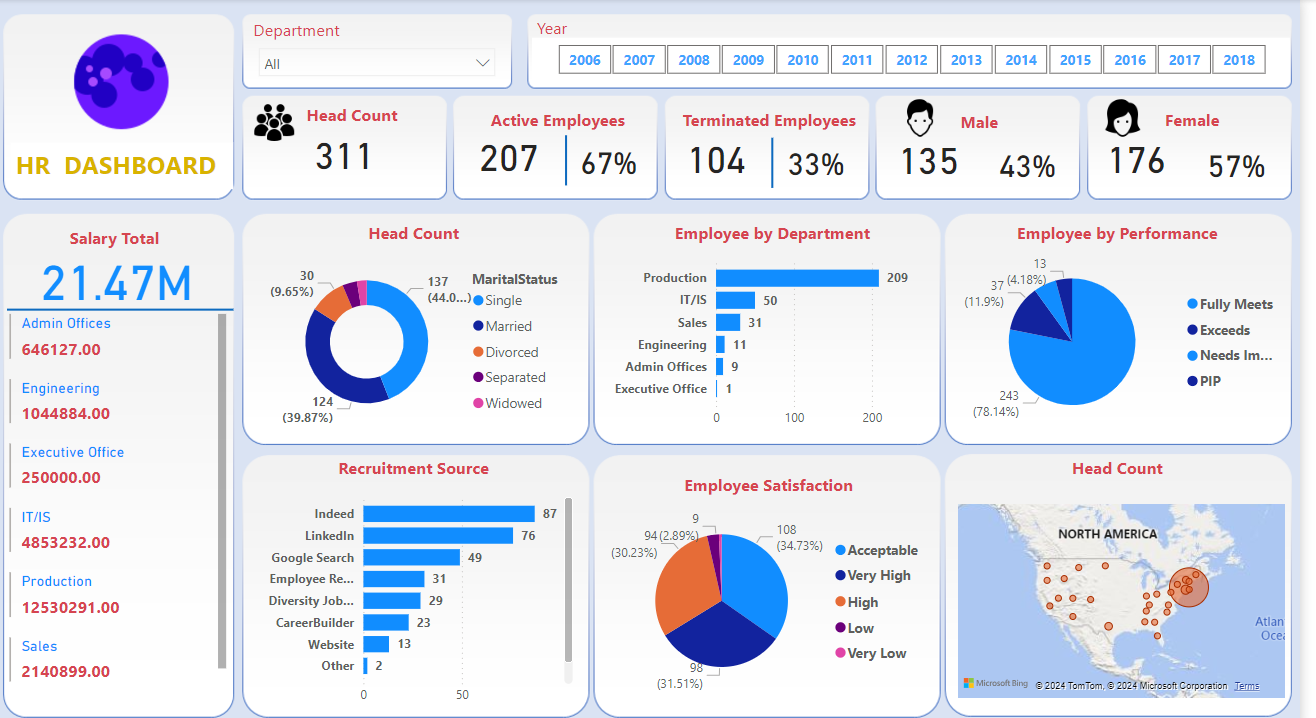

Layout of this report page (visuals, bound fields, positions):
{"tool":"powerbi","page":{"name":"Page 1","canvas":[1280,720],"ordinal":0},"visuals":[{"type":"image","box":[20.6,20.6,201.7,120.8],"z":0},{"type":"textbox","box":[13.7,141.3,218.2,45.3],"z":1000},{"type":"textbox","box":[247,13,108.4,31.6],"z":2000},{"type":"slicer","fields":{"Values":["HRData.Department"]},"box":[247,38.4,252.5,42.5],"z":3000},{"type":"slicer","fields":{"Values":["HRData.Hiring Year"]},"box":[525.6,38.4,743.7,42.5],"z":4000},{"type":"textbox","box":[525.6,12.3,108.4,31.6],"z":5000},{"type":"textbox","box":[255.2,97.4,186.6,31.6],"z":6000},{"type":"textbox","box":[662.5,101.5,191,31.3],"z":7000},{"type":"textbox","box":[868.5,104.5,191,34.3],"z":8000},{"type":"textbox","box":[1078.9,101.5,189.5,31.3],"z":9000},{"type":"textbox","box":[461.1,101.5,178.4,31.6],"z":10000},{"type":"textbox","box":[247.7,213.4,322.3,31.3],"z":11000},{"type":"textbox","box":[599.9,213.4,322.3,31.3],"z":12000},{"type":"textbox","box":[938.6,213.4,322.3,31.3],"z":13000},{"type":"textbox","box":[247.7,444.7,322.3,31.3],"z":14000},{"type":"textbox","box":[596.9,459.6,322.3,31.3],"z":15000},{"type":"textbox","box":[938.6,444.6,322.5,31.6],"z":16000},{"type":"card","fields":{"Values":["Measure Table.Head Count"]},"box":[247.7,132.8,186.5,50.7],"z":17000},{"type":"card","fields":{"Values":["Measure Table.Active"]},"box":[458.1,132.8,89.5,53.7],"z":18000},{"type":"card","fields":{"Values":["Measure Table.Active %"]},"box":[555.7,132.2,89.5,53.7],"z":19000},{"type":"shape","box":[535.7,134.3,44.8,49.2],"z":20000},{"type":"card","fields":{"Values":["Measure Table.Terminated"]},"box":[661.5,134.4,89.5,53.7],"z":21000},{"type":"card","fields":{"Values":["Measure Table.Terminated %"]},"box":[759.1,133.9,89.5,53.7],"z":22000},{"type":"shape","box":[739.1,135.9,44.8,49.2],"z":23000},{"type":"card","fields":{"Values":["Measure Table.Male"]},"box":[869.7,136.1,89.5,53.7],"z":24000},{"type":"card","fields":{"Values":["Measure Table.Male%"]},"box":[967.2,135.5,89.5,53.7],"z":25000},{"type":"card","fields":{"Values":["Measure Table.Female"]},"box":[1074.2,135.3,89.5,53.7],"z":26000},{"type":"card","fields":{"Values":["Measure Table.Female%"]},"box":[1171.8,134.8,89.5,53.7],"z":27000},{"type":"donutChart","fields":{"Y":["Measure Table.Head Count"],"Category":["HRData.MaritalStatus"]},"box":[255.2,244.7,314.9,185],"z":28000},{"type":"clusteredBarChart","fields":{"Category":["HRData.Department"],"Y":["Measure Table.Head Count"]},"box":[599.9,244.7,314.9,185],"z":29000},{"type":"pieChart","fields":{"Category":["HRData.PerformanceScore"],"Y":["Measure Table.Head Count"]},"box":[938.6,244.7,329.8,185],"z":30000},{"type":"clusteredBarChart","fields":{"Category":["HRData.RecruitmentSource"],"Y":["Measure Table.Head Count"]},"box":[247.7,476,322.3,225.3],"z":31000},{"type":"pieChart","fields":{"Category":["HRData.Satisfaction Status"],"Y":["Measure Table.Head Count"]},"box":[596.9,490.9,322.3,200],"z":32000},{"type":"map","fields":{"Category":["HRData.State"],"Size":["Measure Table.Head Count"]},"box":[938.6,491.3,330.7,200.3],"z":33000},{"type":"textbox","box":[22.1,218.3,186.6,31.6],"z":34000},{"type":"card","fields":{"Values":["Measure Table.Salary"]},"box":[13.7,253.9,208.6,50.8],"z":35000},{"type":"shape","box":[9.6,229.2,222.3,150.9],"z":36000},{"type":"multiRowCard","fields":{"Values":["HRData.Department","Sum(HRData.Salary)"]},"box":[6.9,304.6,222.3,376],"z":37000},{"type":"image","box":[1078.6,91.9,52,50],"z":38000},{"type":"image","box":[879.6,91.9,52,50],"z":39000},{"type":"image","box":[242.9,97.4,59,49.4],"z":40000}]}

Visuals, with their boxes on the page's 1280x720 design canvas (x1, y1, x2, y2). These are canvas units, not pixel positions in the 1316x718 screenshot, which may show the page scaled, cropped or inside an application window:
image: left=21, top=21, right=222, bottom=141
textbox: left=14, top=141, right=232, bottom=187
textbox: left=247, top=13, right=355, bottom=45
slicer - HRData.Department: left=247, top=38, right=500, bottom=81
slicer - HRData.Hiring Year: left=526, top=38, right=1269, bottom=81
textbox: left=526, top=12, right=634, bottom=44
textbox: left=255, top=97, right=442, bottom=129
textbox: left=662, top=102, right=854, bottom=133
textbox: left=868, top=104, right=1060, bottom=139
textbox: left=1079, top=102, right=1268, bottom=133
textbox: left=461, top=102, right=640, bottom=133
textbox: left=248, top=213, right=570, bottom=245
textbox: left=600, top=213, right=922, bottom=245
textbox: left=939, top=213, right=1261, bottom=245
textbox: left=248, top=445, right=570, bottom=476
textbox: left=597, top=460, right=919, bottom=491
textbox: left=939, top=445, right=1261, bottom=476
card - Measure Table.Head Count: left=248, top=133, right=434, bottom=184
card - Measure Table.Active: left=458, top=133, right=548, bottom=186
card - Measure Table.Active %: left=556, top=132, right=645, bottom=186
shape: left=536, top=134, right=580, bottom=184
card - Measure Table.Terminated: left=662, top=134, right=751, bottom=188
card - Measure Table.Terminated %: left=759, top=134, right=849, bottom=188
shape: left=739, top=136, right=784, bottom=185
card - Measure Table.Male: left=870, top=136, right=959, bottom=190
card - Measure Table.Male%: left=967, top=136, right=1057, bottom=189
card - Measure Table.Female: left=1074, top=135, right=1164, bottom=189
card - Measure Table.Female%: left=1172, top=135, right=1261, bottom=188
donutChart - Measure Table.Head Count x HRData.MaritalStatus: left=255, top=245, right=570, bottom=430
clusteredBarChart - HRData.Department x Measure Table.Head Count: left=600, top=245, right=915, bottom=430
pieChart - HRData.PerformanceScore x Measure Table.Head Count: left=939, top=245, right=1268, bottom=430
clusteredBarChart - HRData.RecruitmentSource x Measure Table.Head Count: left=248, top=476, right=570, bottom=701
pieChart - HRData.Satisfaction Status x Measure Table.Head Count: left=597, top=491, right=919, bottom=691
map - HRData.State x Measure Table.Head Count: left=939, top=491, right=1269, bottom=692
textbox: left=22, top=218, right=209, bottom=250
card - Measure Table.Salary: left=14, top=254, right=222, bottom=305
shape: left=10, top=229, right=232, bottom=380
multiRowCard - HRData.Department x Sum(HRData.Salary): left=7, top=305, right=229, bottom=681
image: left=1079, top=92, right=1131, bottom=142
image: left=880, top=92, right=932, bottom=142
image: left=243, top=97, right=302, bottom=147
